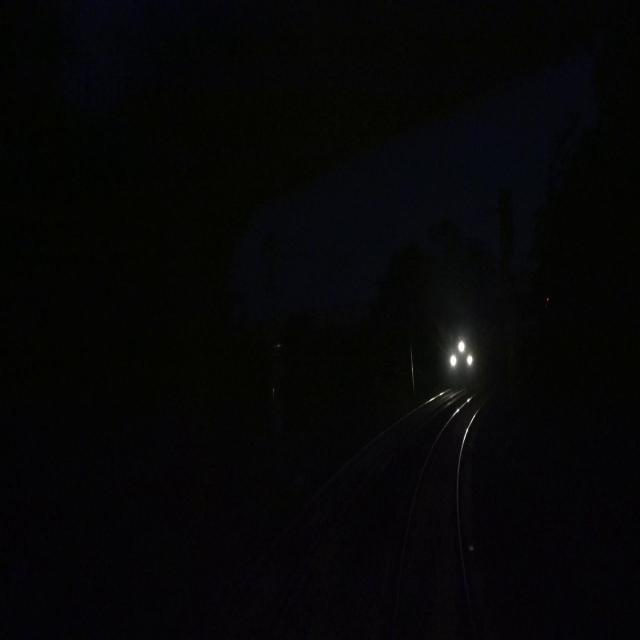rail-track: (219, 386, 461, 639), (399, 395, 480, 639)
